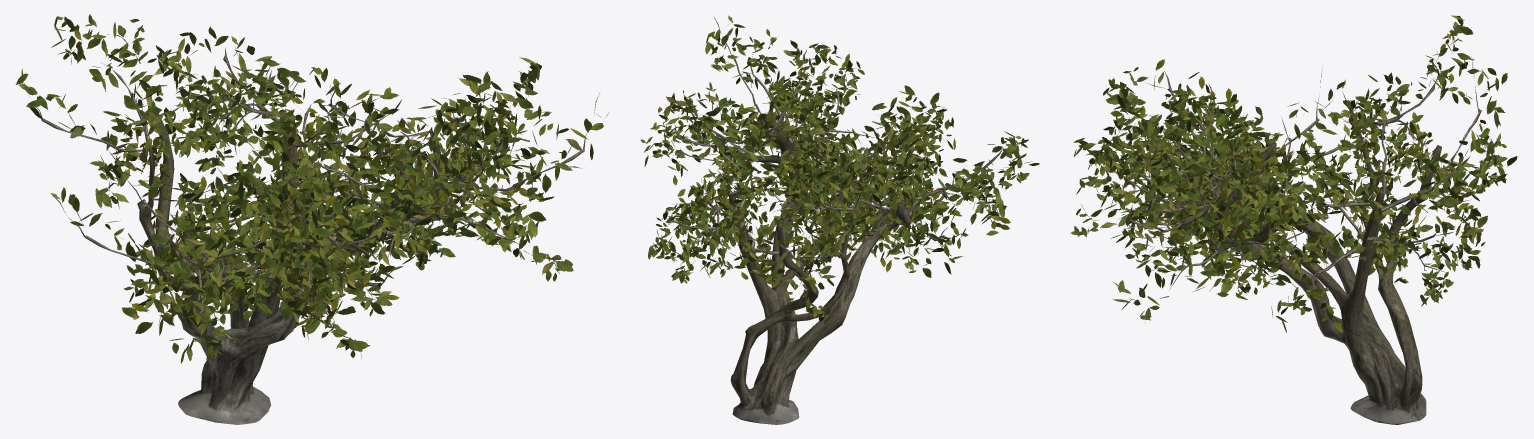
The model's file is tree-full.gltf.
The picture shows the model from 3 angles, left to right: view 1: azimuth 30°, elevation 25°; view 2: azimuth 150°, elevation 25°; view 3: azimuth 270°, elevation 25°; orthographic projection. The views are drawn at different scales.
Parts seen in each view (by area): view 1: island_tree_02_LOD0; view 2: island_tree_02_LOD0; view 3: island_tree_02_LOD0.
Part boxes in pixels (x1,y1,x2,y2): island_tree_02_LOD0: (15, 14, 608, 424); island_tree_02_LOD0: (640, 15, 1039, 424); island_tree_02_LOD0: (1070, 15, 1517, 424).
Bounding box in the file's own units: 3.99 × 3.41 × 4.1.
3 materials, 3 textured.
